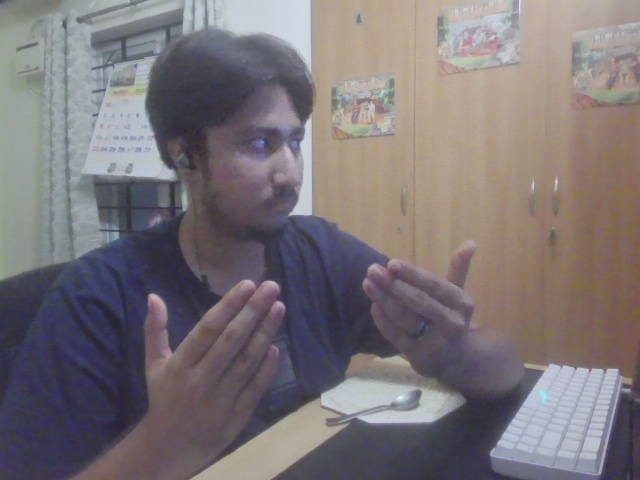thankyou: (142, 240, 477, 449)
